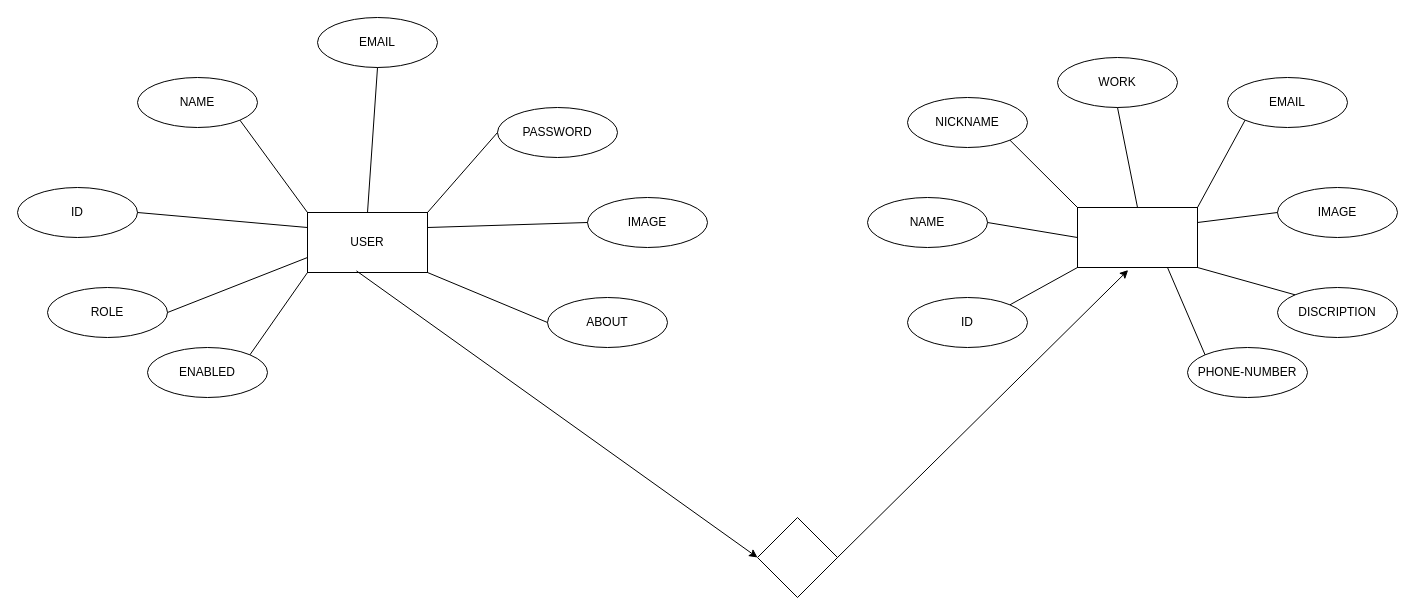
Some shapes in this 1415 by 615 pixel diagram are drawn without their labels. Here are the shapes that lost their labels. From the top down, the centre of each, then its label:
At [1137,237]: "CUSTOMER".
At [797,557]: "HAS".
